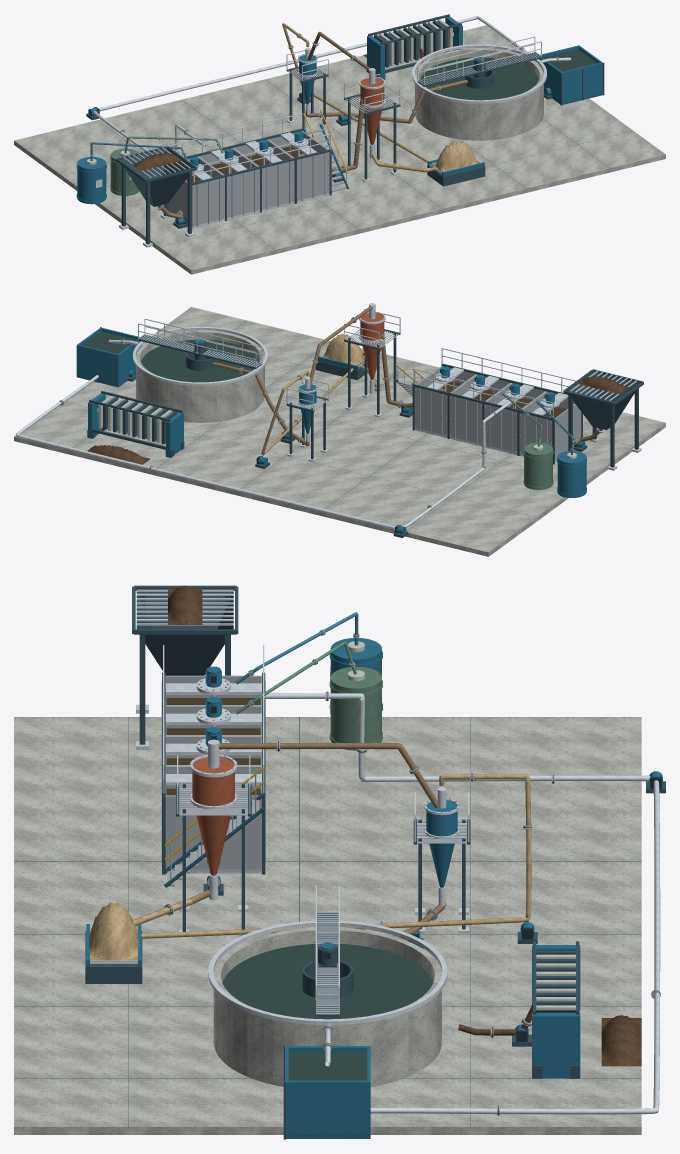
File: sediment_exterior.glb
3 views of the same model, one above another, from view 1: azimuth 30°, elevation 25°; view 2: azimuth 150°, elevation 25°; view 3: azimuth 270°, elevation 25° (orthographic). The views are drawn at different scales.
Visible parts, largest first — view 1: site__body_concrete, wash__wall_glass, adv__body_concrete, hopper__body_steel, adv__surface_water, water__body_paint_blue, wash__fabrication_galvanized_reference, pipes__P11_stainless, press__plates_steel, adv__launder_stainless, chem__body_paint_blue, press__plates_pe_tank (+26 smaller); view 2: site__body_concrete, wash__wall_glass, adv__body_concrete, adv__surface_water, hopper__body_steel, pipes__P11_stainless, water__body_paint_blue, press__plates_pe_tank, wash__details_stainless, press__plates_steel, wash__fabrication_galvanized_reference, chem__body_paint_blue (+28 smaller); view 3: site__body_concrete, adv__body_concrete, adv__surface_water, wash__wall_glass, pipes__P11_stainless, water__body_paint_blue, hopper__body_steel, adv__launder_stainless, press__head_paint_blue, chem__body_paint_green, pipes__P08_sand, cycA__body_paint_red (+23 smaller).
Part boxes in pixels (box(x1,y1,x2,y2)): site__body_concrete: box(14, 25, 665, 274); wash__wall_glass: box(168, 131, 329, 228); adv__body_concrete: box(415, 48, 543, 140); hopper__body_steel: box(120, 148, 192, 244); adv__surface_water: box(420, 57, 538, 100); water__body_paint_blue: box(539, 45, 602, 104); wash__fabrication_galvanized_reference: box(192, 114, 346, 226); pipes__P11_stainless: box(93, 16, 529, 153); press__plates_steel: box(374, 20, 447, 67); adv__launder_stainless: box(412, 44, 546, 103); chem__body_paint_blue: box(77, 157, 106, 204); press__plates_pe_tank: box(378, 19, 452, 66); site__body_concrete: box(14, 307, 665, 556); wash__wall_glass: box(414, 366, 581, 462); adv__body_concrete: box(136, 330, 264, 422); adv__surface_water: box(141, 339, 259, 382); hopper__body_steel: box(567, 371, 640, 467); pipes__P11_stainless: box(15, 375, 512, 529); water__body_paint_blue: box(76, 327, 141, 387); press__plates_pe_tank: box(98, 396, 172, 442); wash__details_stainless: box(413, 348, 576, 416); press__plates_steel: box(103, 397, 176, 444); wash__fabrication_galvanized_reference: box(397, 367, 558, 453); chem__body_paint_blue: box(557, 451, 586, 497); site__body_concrete: box(14, 717, 641, 1134); adv__body_concrete: box(213, 927, 441, 1086); adv__surface_water: box(222, 944, 432, 1019); wash__wall_glass: box(165, 675, 261, 873); pipes__P11_stainless: box(262, 693, 660, 1114); water__body_paint_blue: box(285, 1046, 370, 1138); hopper__body_steel: box(136, 592, 233, 744); adv__launder_stainless: box(208, 920, 447, 1025); press__head_paint_blue: box(532, 945, 580, 1078); chem__body_paint_green: box(330, 666, 381, 750); pipes__P08_sand: box(141, 774, 531, 938); cycA__body_paint_red: box(192, 757, 234, 875).
Size of the model in its own units: 36.17 by 7.29 by 22.85.
Materials: 19 (11 with a texture image).
